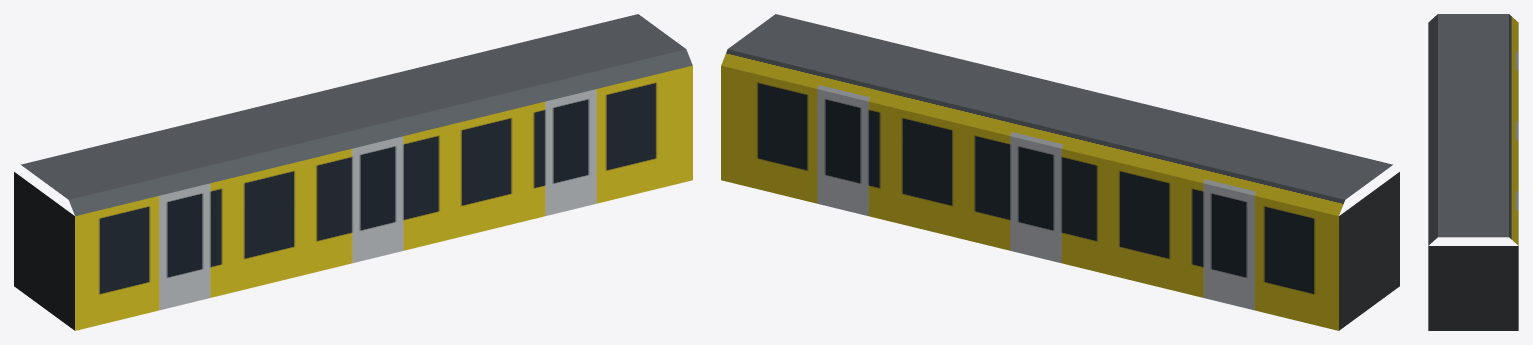
Rendered from bvg_grossprofil__neutral.glb.
The picture shows the model from 3 angles, left to right: view 1: azimuth 30°, elevation 25°; view 2: azimuth 150°, elevation 25°; view 3: azimuth 270°, elevation 25°; orthographic projection. The views are drawn at different scales.
Visible parts, largest first — view 1: bvg_grossprofil; view 2: bvg_grossprofil; view 3: bvg_grossprofil.
Part boxes in pixels (box(x1,y1,x2,y2)): bvg_grossprofil: box(14, 14, 692, 330); bvg_grossprofil: box(721, 14, 1399, 330); bvg_grossprofil: box(1428, 14, 1518, 330).
Bounding box in the file's own units: 15.5 × 3.03 × 2.65.
Materials: 1 (1 with a texture image).
